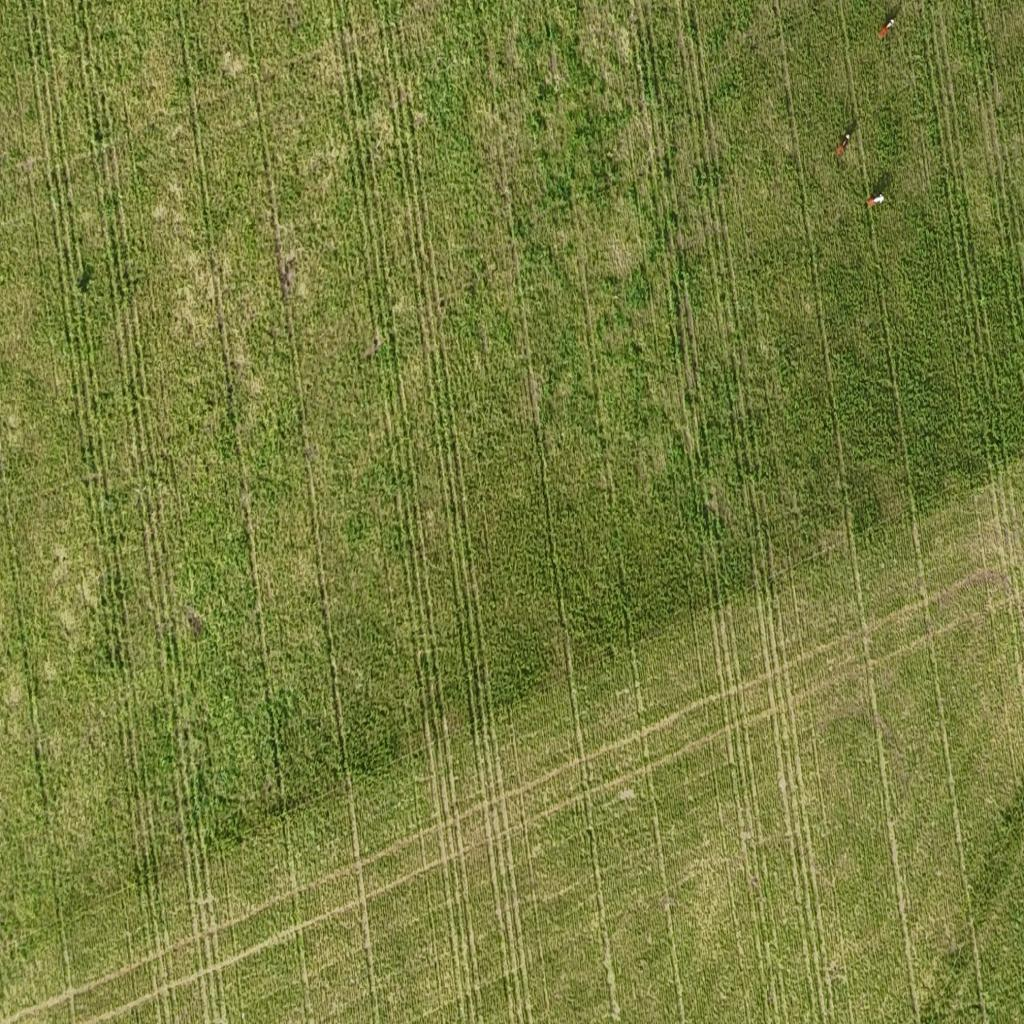cow: (878, 17, 896, 40), (865, 192, 885, 210), (836, 134, 850, 159)
